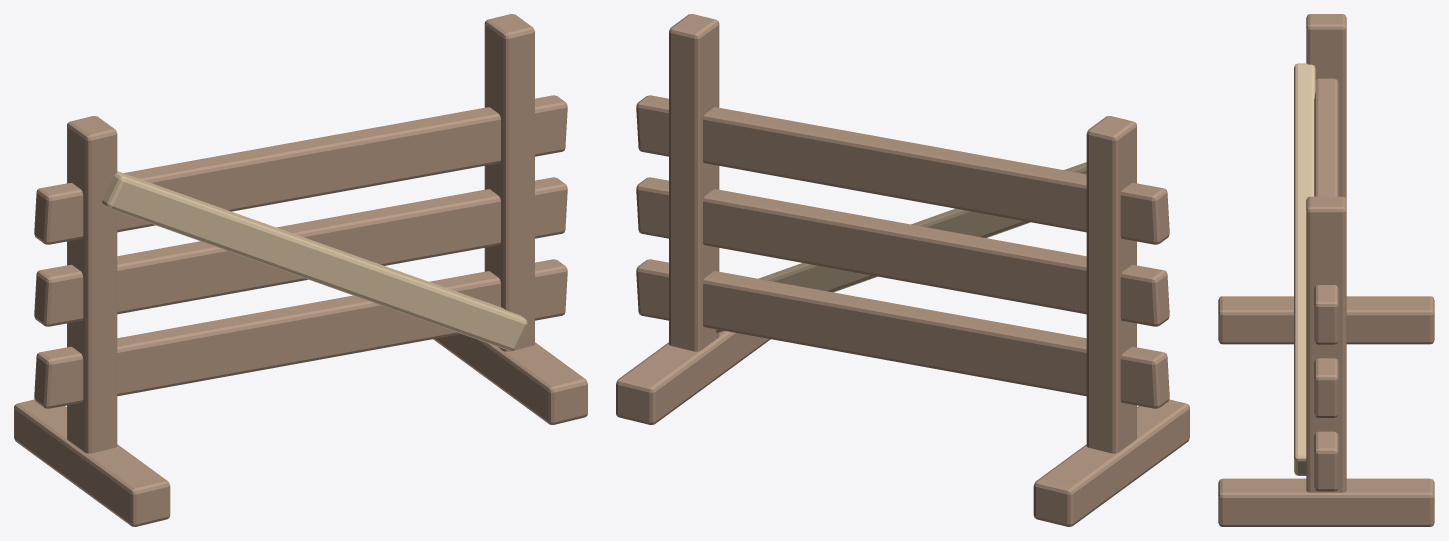
The picture shows the model from 3 angles, left to right: view 1: azimuth 30°, elevation 25°; view 2: azimuth 150°, elevation 25°; view 3: azimuth 270°, elevation 25°; orthographic projection. The views are drawn at different scales.
Visible parts, largest first — view 1: cross plank.002, cross plank, cross plank.001, brace, upright, upright.001, foot, foot.001; view 2: cross plank.001, cross plank.002, cross plank, upright, upright.001, foot, foot.001, brace; view 3: foot.001, upright.001, foot, brace, cross plank.002, upright, cross plank, cross plank.001.
Boxes of the visible parts, x1=… form: cross plank.002: x1=34, y1=95, x2=567, y2=244; cross plank: x1=34, y1=259, x2=567, y2=408; cross plank.001: x1=34, y1=177, x2=567, y2=326; brace: x1=102, y1=171, x2=527, y2=350; upright: x1=67, y1=116, x2=117, y2=453; upright.001: x1=484, y1=14, x2=534, y2=351; foot: x1=14, y1=399, x2=170, y2=526; foot.001: x1=433, y1=334, x2=587, y2=424; cross plank.001: x1=636, y1=177, x2=1169, y2=326; cross plank.002: x1=636, y1=95, x2=1169, y2=244; cross plank: x1=636, y1=259, x2=1169, y2=408; upright: x1=1086, y1=116, x2=1136, y2=453; upright.001: x1=669, y1=14, x2=719, y2=351; foot: x1=1033, y1=399, x2=1189, y2=526; foot.001: x1=616, y1=331, x2=770, y2=424; brace: x1=715, y1=162, x2=1086, y2=333; foot.001: x1=1218, y1=478, x2=1434, y2=526; upright.001: x1=1306, y1=196, x2=1346, y2=492; foot: x1=1218, y1=296, x2=1434, y2=344; brace: x1=1294, y1=63, x2=1315, y2=475; cross plank.002: x1=1314, y1=78, x2=1338, y2=344; upright: x1=1306, y1=14, x2=1346, y2=199; cross plank: x1=1314, y1=431, x2=1338, y2=491; cross plank.001: x1=1314, y1=358, x2=1338, y2=417.
Size of the model in its own units: 2.01 by 1.3 by 0.8.
